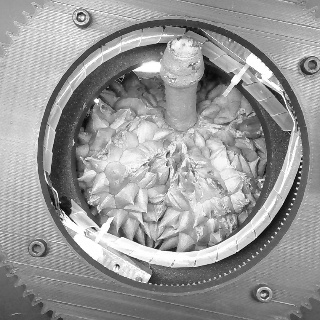base: (160, 109, 202, 134)
end: (169, 36, 200, 59)
